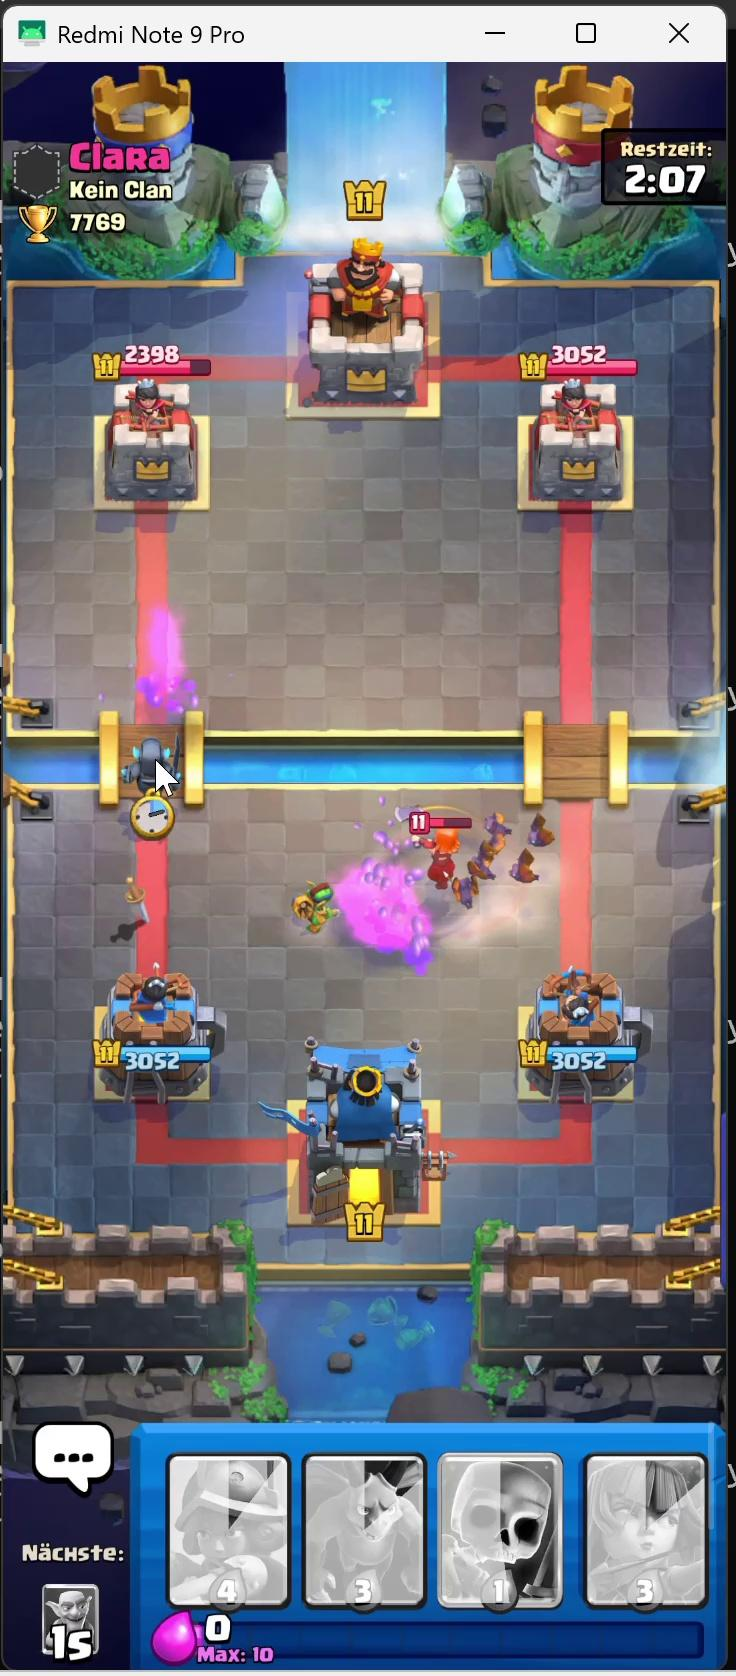bat: (452, 873, 482, 910), (533, 814, 554, 855), (512, 859, 541, 885), (469, 851, 494, 879), (490, 817, 505, 845)
gobelin_lances: (307, 884, 332, 928)
mini_PEKKA: (127, 732, 181, 818)
valkyrie: (423, 814, 465, 878)
